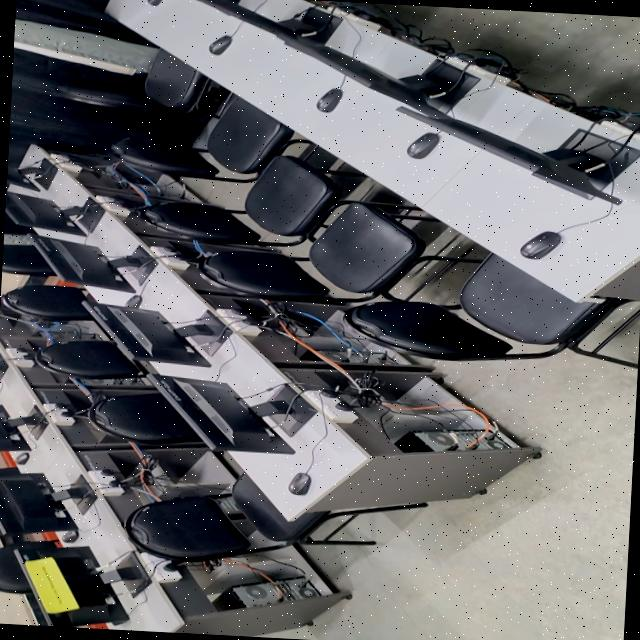Chair: (351, 256, 598, 364), (196, 200, 422, 302), (144, 153, 336, 245), (109, 102, 288, 179), (122, 496, 304, 556), (58, 44, 203, 112), (92, 392, 185, 442), (36, 338, 134, 381), (2, 282, 88, 321), (0, 548, 30, 595), (2, 241, 39, 277)
Cpu: (216, 570, 322, 613), (406, 424, 510, 456), (308, 345, 398, 366)
Monitor: (423, 111, 640, 202), (288, 38, 481, 110), (158, 376, 319, 452), (20, 549, 150, 625), (28, 232, 157, 296), (95, 306, 228, 366), (197, 0, 333, 47), (0, 476, 94, 533), (4, 194, 109, 238), (0, 396, 45, 452), (7, 154, 62, 193)
Mouse: (513, 225, 568, 264), (400, 129, 444, 163), (306, 84, 348, 112), (288, 471, 318, 500), (207, 34, 234, 57), (121, 294, 148, 306), (10, 450, 30, 466), (58, 532, 84, 544), (142, 0, 169, 7)
